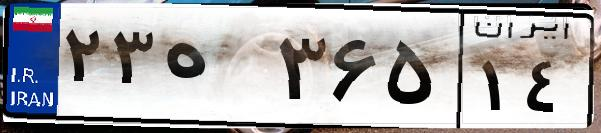1: (475, 38, 525, 113)
2: (57, 26, 110, 100)
3: (270, 28, 330, 110), (110, 28, 158, 98)
4: (525, 38, 570, 115)
5: (385, 28, 445, 110)
6: (330, 28, 385, 110)
ه: (158, 20, 270, 120)
